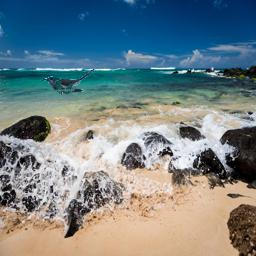Cuckoo: (42, 68, 96, 95)
